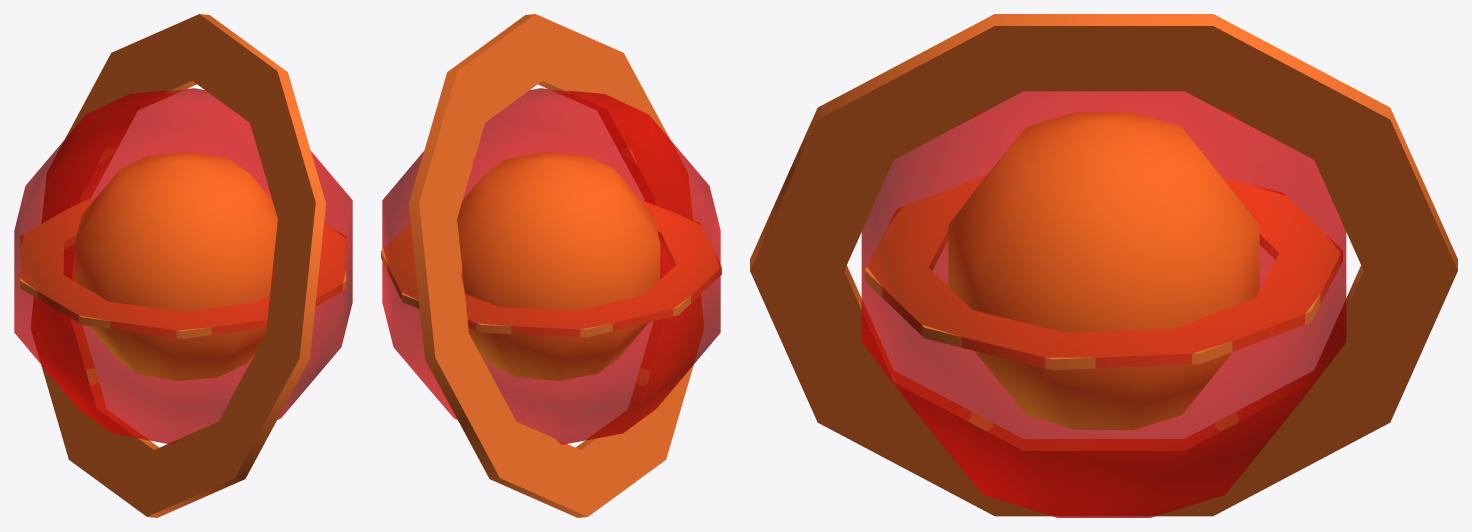
Rendered from Enemy_Attack18.obj.
3 views of the same model, side by side, from view 1: azimuth 30°, elevation 25°; view 2: azimuth 150°, elevation 25°; view 3: azimuth 270°, elevation 25° (orthographic). The views are drawn at different scales.
Parts seen in each view (by area): view 1: Sphere002, Tube001, Sphere001, Tube002; view 2: Sphere002, Tube001, Sphere001, Tube002; view 3: Sphere002, Tube001, Sphere001, Tube002.
Part boxes in pixels (left/top/right/bottom): Sphere002: left=14, top=88, right=352, bottom=444; Tube001: left=31, top=14, right=325, bottom=517; Sphere001: left=74, top=152, right=277, bottom=380; Tube002: left=20, top=198, right=346, bottom=338; Sphere002: left=382, top=88, right=720, bottom=444; Tube001: left=409, top=14, right=703, bottom=517; Sphere001: left=457, top=152, right=660, bottom=380; Tube002: left=381, top=200, right=721, bottom=337; Sphere002: left=861, top=91, right=1346, bottom=517; Tube001: left=750, top=14, right=1457, bottom=516; Sphere001: left=948, top=112, right=1259, bottom=429; Tube002: left=865, top=176, right=1342, bottom=370.
Size of the model in its own units: 21.03 by 28.91 by 31.73.
